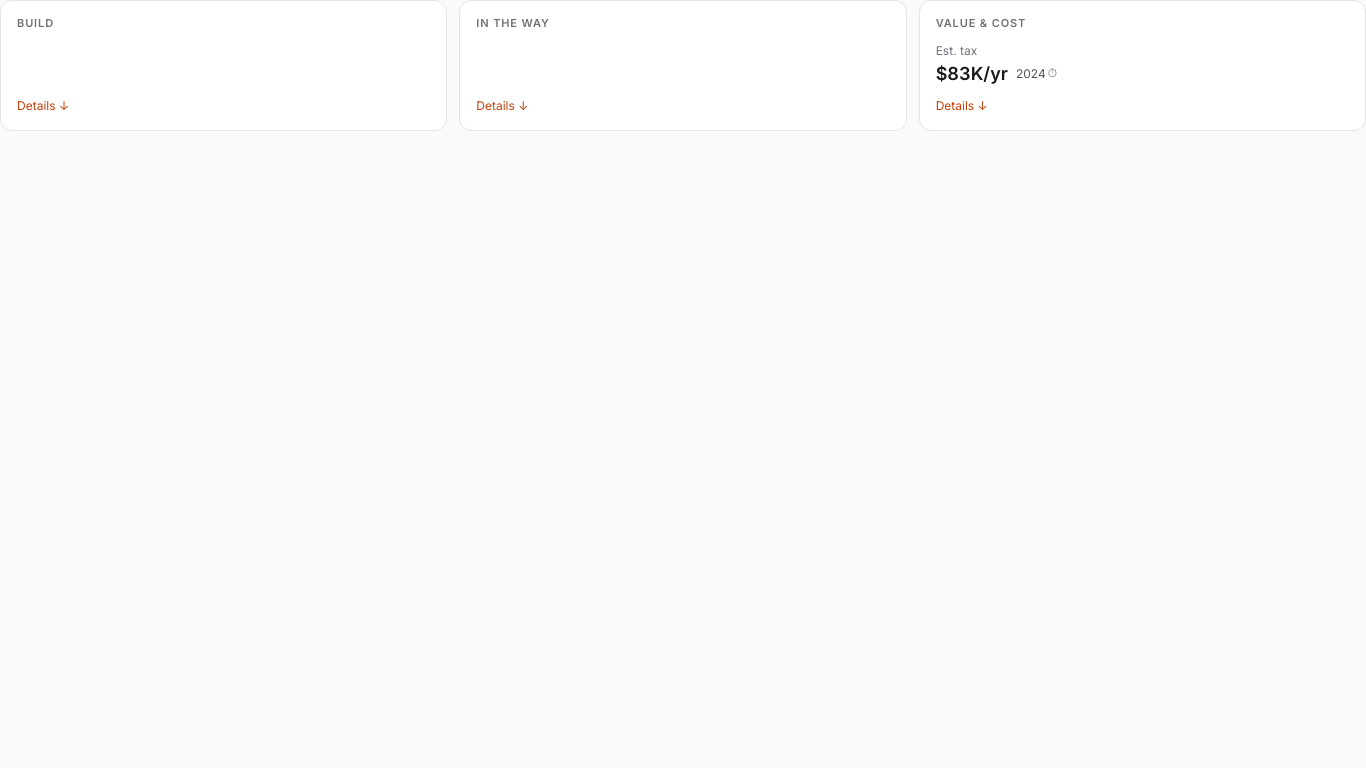
Test case: AnswerPanels — the truth rules on the first screen › puts a figure's explanation behind a click, not on the page
Expected: the text "Bill year 2024." is not shown
Click the button named "Est. tax" at (1036, 73), box x1=1014 y1=65 x2=1059 y2=82
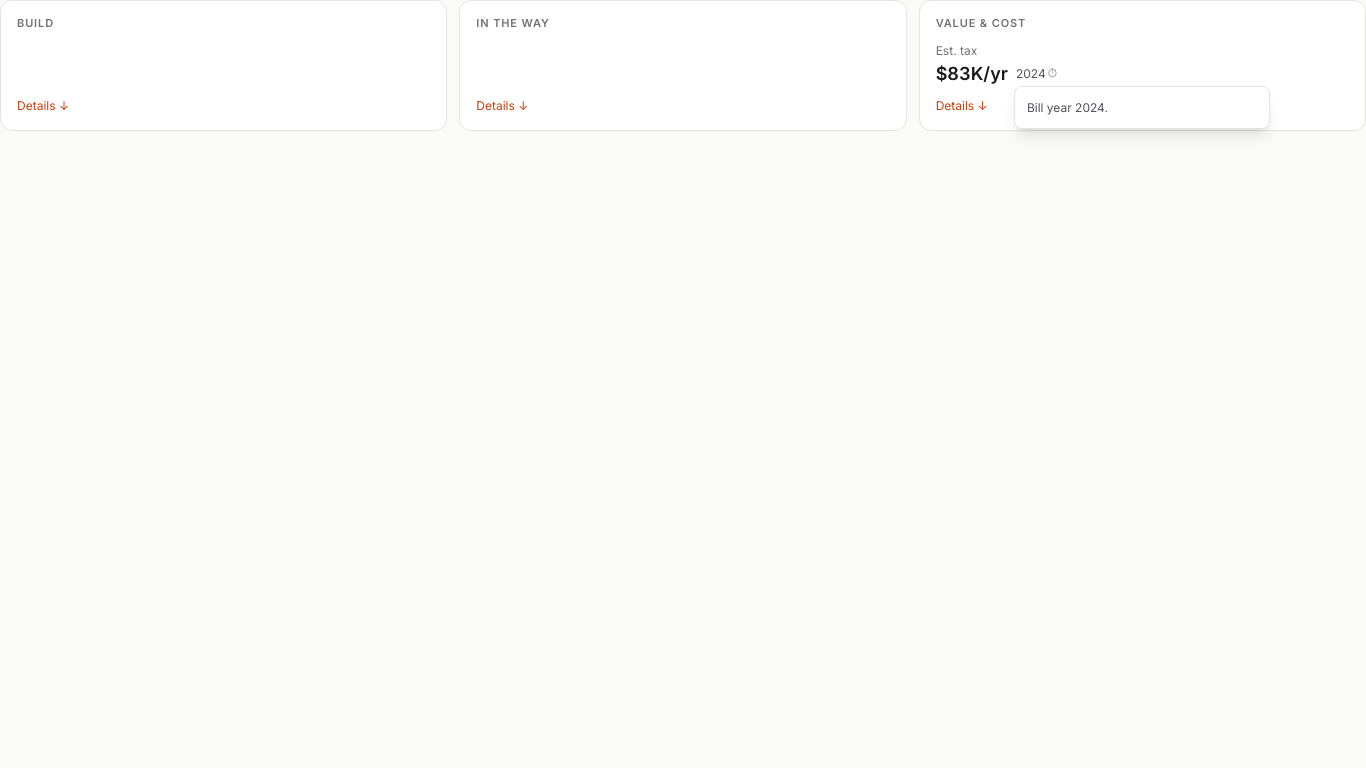
Now the dialog reads "Bill year 2024.", box x1=1027 y1=100 x2=1108 y2=115
